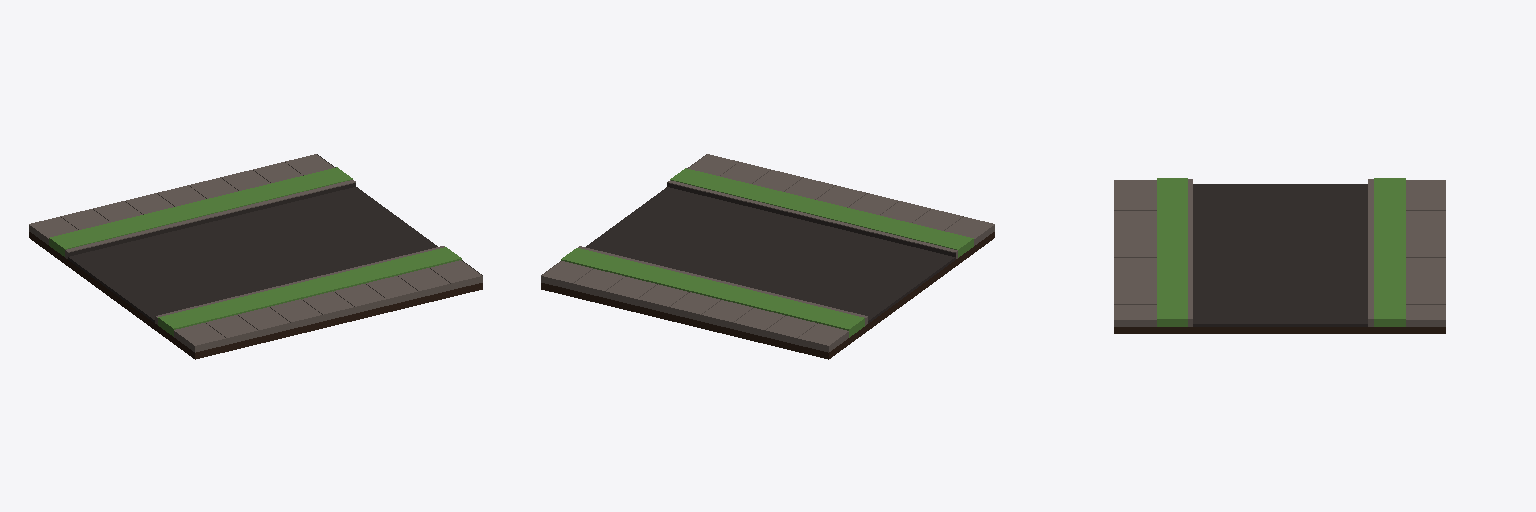
Rendered from road_1.obj.
3 views of the same model, side by side, from view 1: azimuth 30°, elevation 25°; view 2: azimuth 150°, elevation 25°; view 3: azimuth 270°, elevation 25° (orthographic).
Visible parts, largest first — view 1: road_1_h; view 2: road_1_h; view 3: road_1_h.
Boxes of the visible parts, x1,y1,x2,y2 form: road_1_h: [29, 154, 482, 359]; road_1_h: [541, 154, 994, 359]; road_1_h: [1114, 178, 1445, 333].
Size of the model in its own units: 22 by 1.11 by 22.